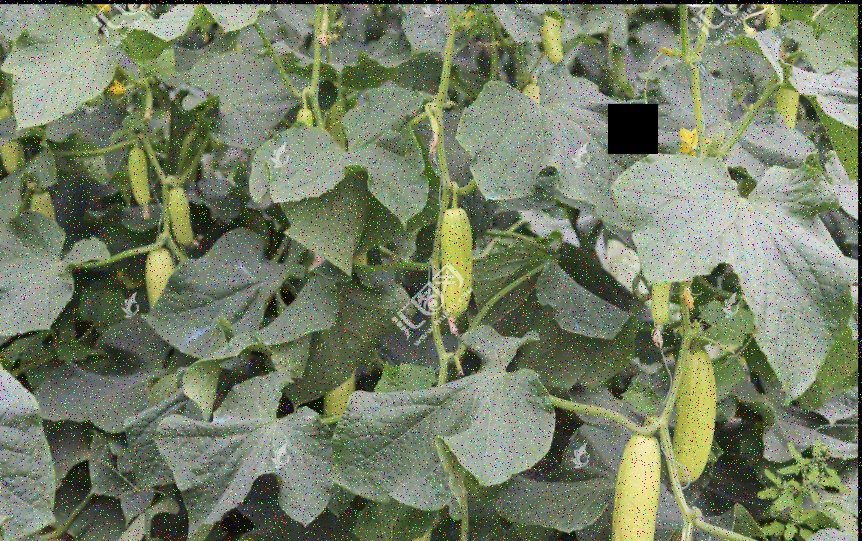cucumber_plant: (629, 119, 845, 394), (171, 382, 547, 525), (11, 5, 169, 134)
